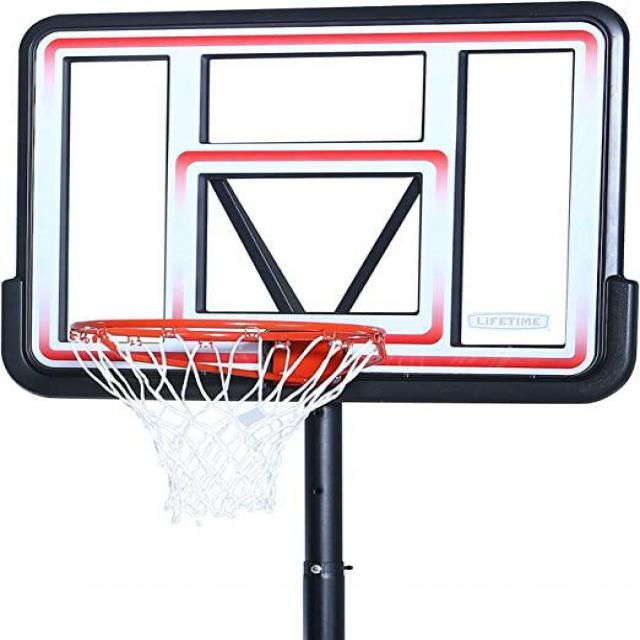hoop: (70, 320, 386, 522)
